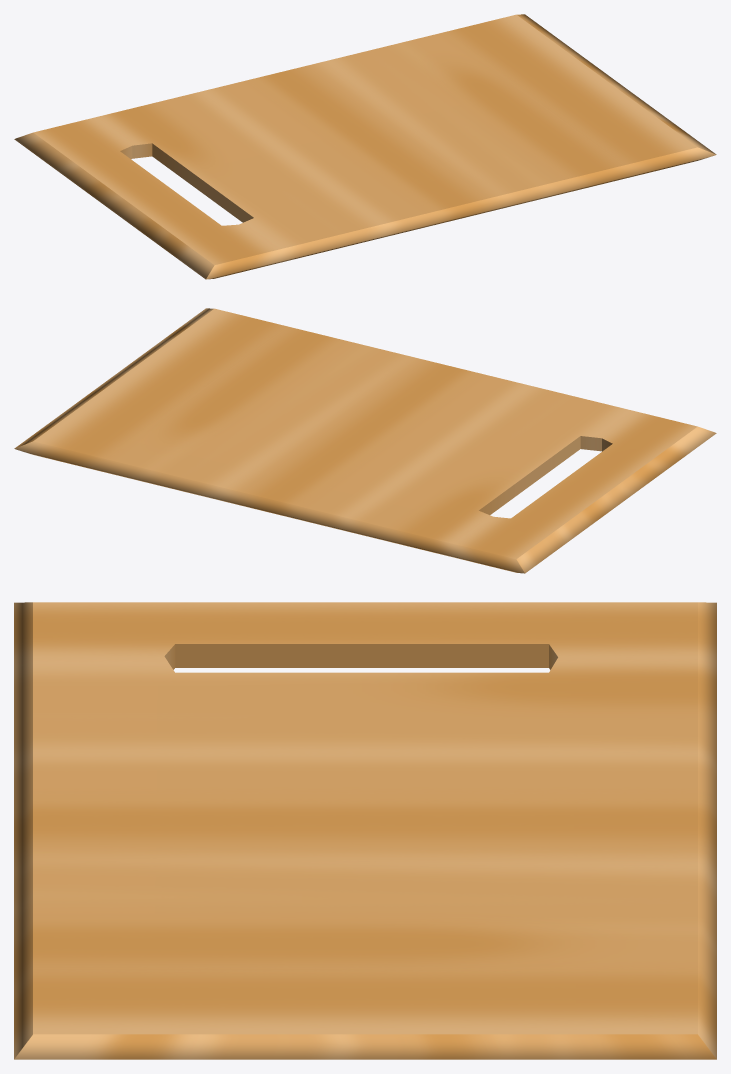
File: cuttingBoard.fbx
3 views of the same model, one above another, from view 1: azimuth 30°, elevation 25°; view 2: azimuth 150°, elevation 25°; view 3: azimuth 270°, elevation 25° (orthographic). The views are drawn at different scales.
Visible parts, largest first — view 1: pCube1; view 2: pCube1; view 3: pCube1.
Boxes of the visible parts, left/top/right/bottom form: pCube1: left=14, top=14, right=716, bottom=279; pCube1: left=14, top=308, right=716, bottom=573; pCube1: left=14, top=602, right=716, bottom=1059.
Size of the model in its own units: 2.98 by 0.0754 by 1.94.
Materials: 1 (1 with a texture image).
